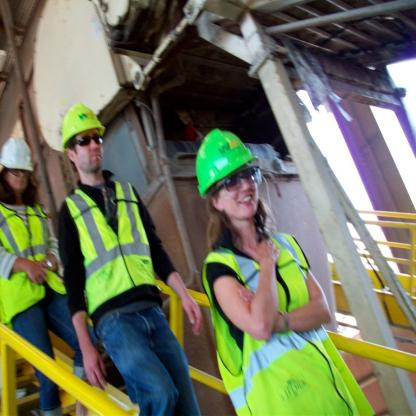Helmet: (196, 128, 265, 201), (62, 103, 107, 156), (0, 138, 36, 176)
